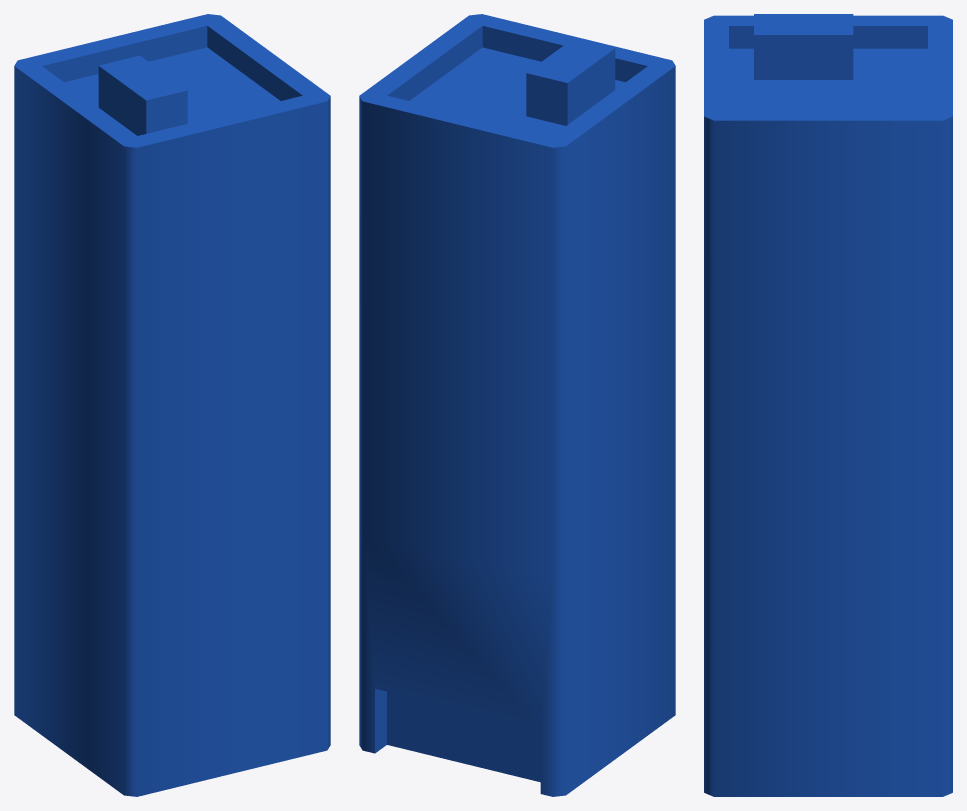
The model's file is low-detail-building-k.glb.
The picture shows the model from 3 angles, left to right: view 1: azimuth 30°, elevation 25°; view 2: azimuth 150°, elevation 25°; view 3: azimuth 270°, elevation 25°; orthographic projection. The views are drawn at different scales.
Parts seen in each view (by area): view 1: low-detail-building-k; view 2: low-detail-building-k; view 3: low-detail-building-k.
Part boxes in pixels (left/top/right/bottom): low-detail-building-k: left=14, top=14, right=330, bottom=796; low-detail-building-k: left=359, top=14, right=675, bottom=796; low-detail-building-k: left=704, top=14, right=952, bottom=796.
Size of the model in its own units: 0.5 by 1.55 by 0.5.
